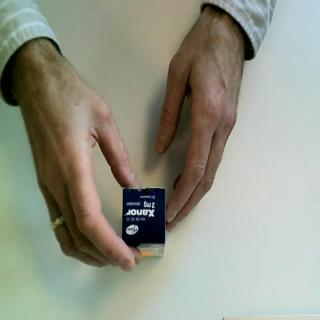xanor2mg: (120, 184, 168, 266)
